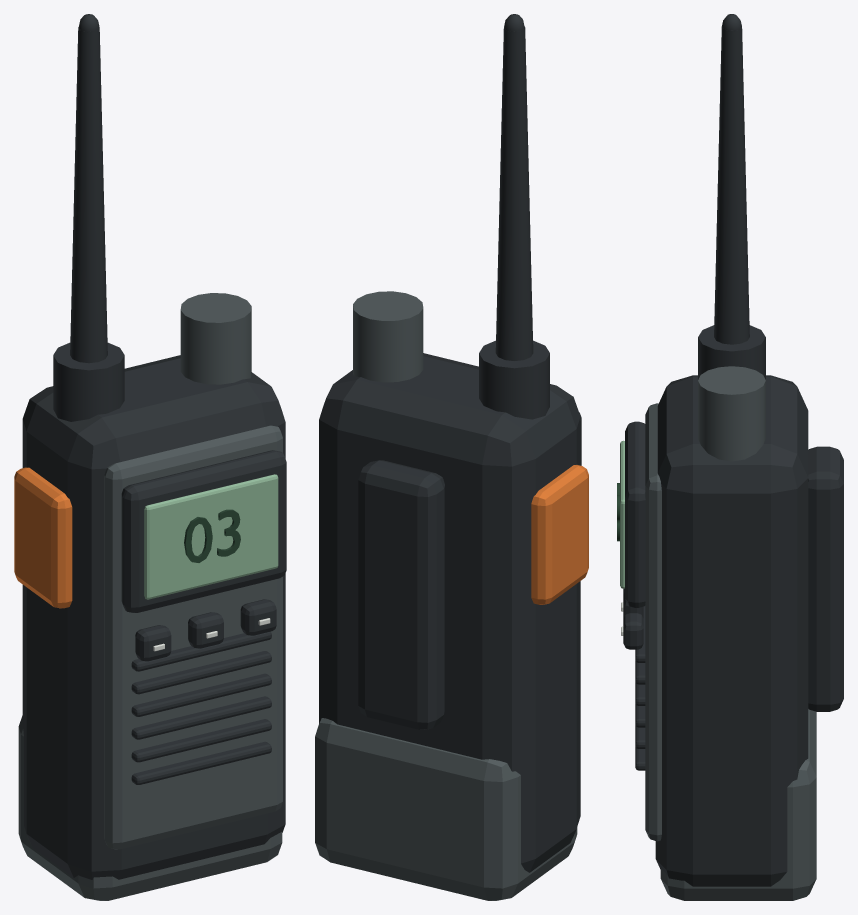
The model's file is walkie_talkie.glb.
3 views of the same model, side by side, from view 1: azimuth 30°, elevation 25°; view 2: azimuth 150°, elevation 25°; view 3: azimuth 270°, elevation 25° (orthographic). The views are drawn at different scales.
Parts seen in each view (by area): view 1: Rugged handheld case, Recessed front panel, Green LCD glass, Flexible antenna, LCD screen frame, Side transmit key, Volume knob, Battery pack bottom, Antenna mount, Speaker grille slot.002, Speaker grille slot.001, Speaker grille slot.003 (+7 smaller); view 2: Rugged handheld case, Battery pack bottom, Rear belt clip, Flexible antenna, Side transmit key, Volume knob, Antenna mount; view 3: Rugged handheld case, Rear belt clip, Flexible antenna, Recessed front panel, Battery pack bottom, Volume knob, LCD screen frame, Antenna mount, Green LCD glass, Front control key.002.
Boxes of the visible parts, x1,y1,x2,y2 form: Rugged handheld case: (22, 355, 285, 879); Recessed front panel: (104, 425, 282, 849); Green LCD glass: (144, 474, 278, 599); Flexible antenna: (70, 27, 107, 363); LCD screen frame: (121, 450, 286, 612); Side transmit key: (14, 467, 72, 608); Volume knob: (180, 293, 251, 384); Battery pack bottom: (18, 715, 282, 900); Antenna mount: (53, 342, 124, 421); Speaker grille slot.002: (131, 696, 271, 739); Speaker grille slot.001: (131, 719, 271, 762); Speaker grille slot.003: (131, 673, 271, 716); Rugged handheld case: (319, 353, 580, 872); Battery pack bottom: (315, 718, 577, 900); Rear belt clip: (358, 460, 444, 729); Flexible antenna: (495, 27, 533, 360); Side transmit key: (531, 465, 588, 604); Volume knob: (353, 291, 423, 382); Antenna mount: (479, 340, 549, 419); Rugged handheld case: (655, 375, 808, 886); Rear belt clip: (808, 446, 843, 711); Flexible antenna: (714, 27, 749, 344); Recessed front panel: (645, 403, 661, 841); Battery pack bottom: (660, 709, 816, 900); Volume knob: (698, 366, 765, 461); LCD screen frame: (625, 421, 645, 607); Antenna mount: (698, 325, 765, 379); Green LCD glass: (620, 440, 624, 588); Front control key.002: (623, 613, 643, 649).
Bounding box in the file's own units: 0.0735 × 0.2665 × 0.0668.
